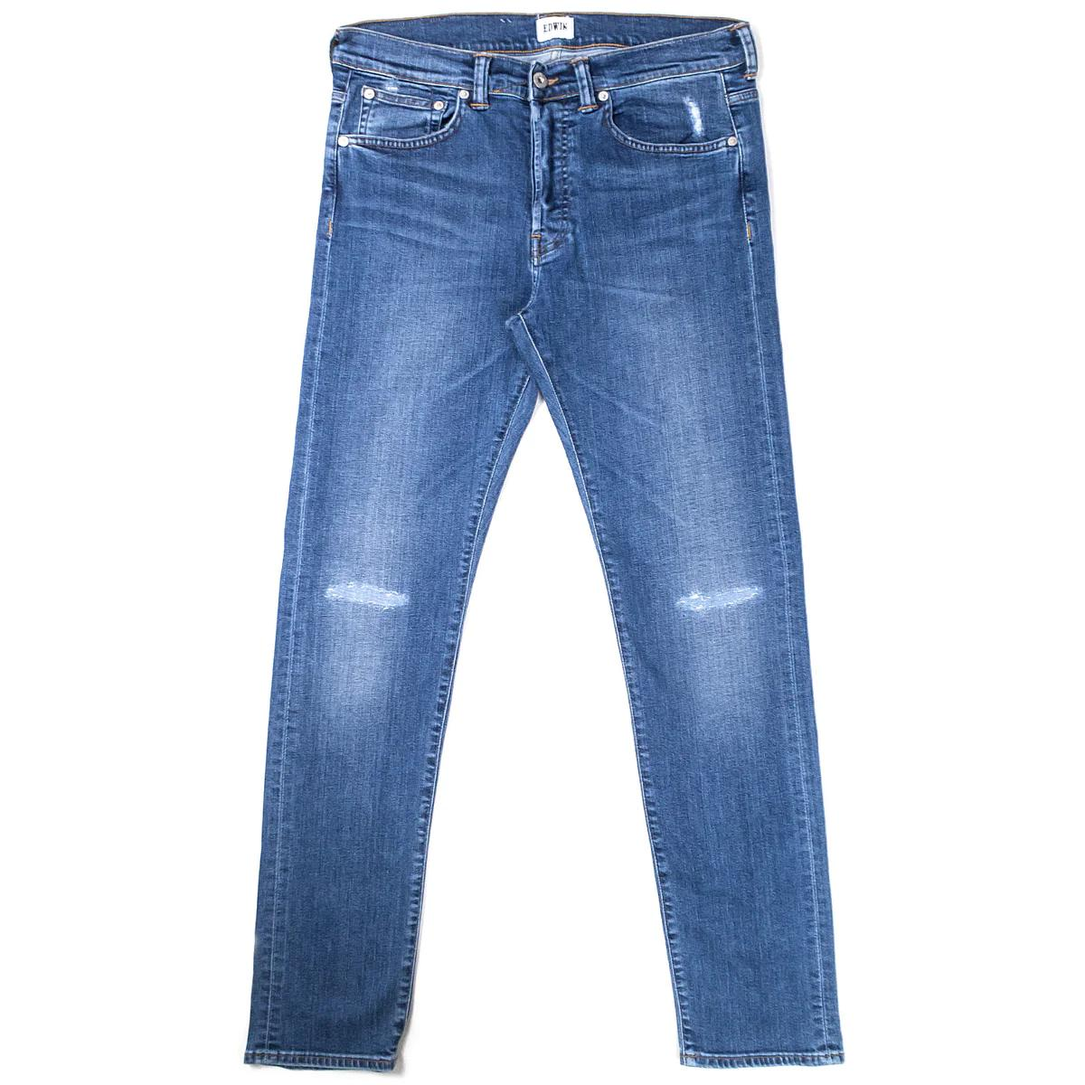Jeans: (237, 0, 854, 1085)
